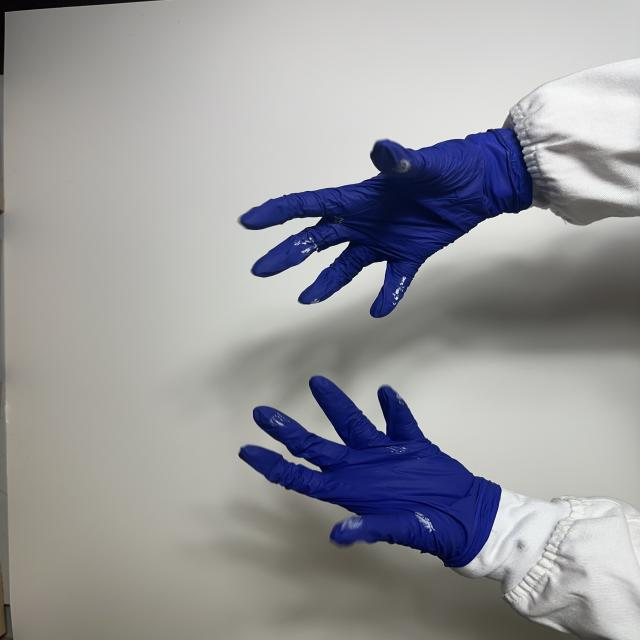gloves_contaminated: (240, 128, 532, 318), (239, 376, 500, 568)
